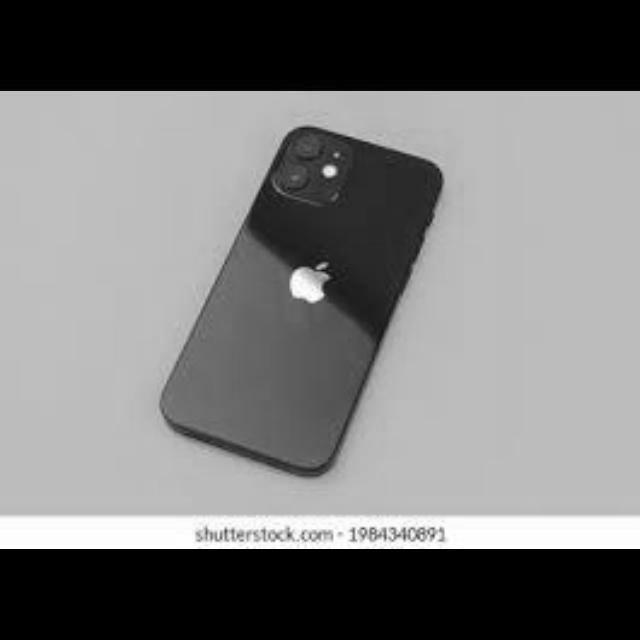fake: (150, 124, 442, 482)
